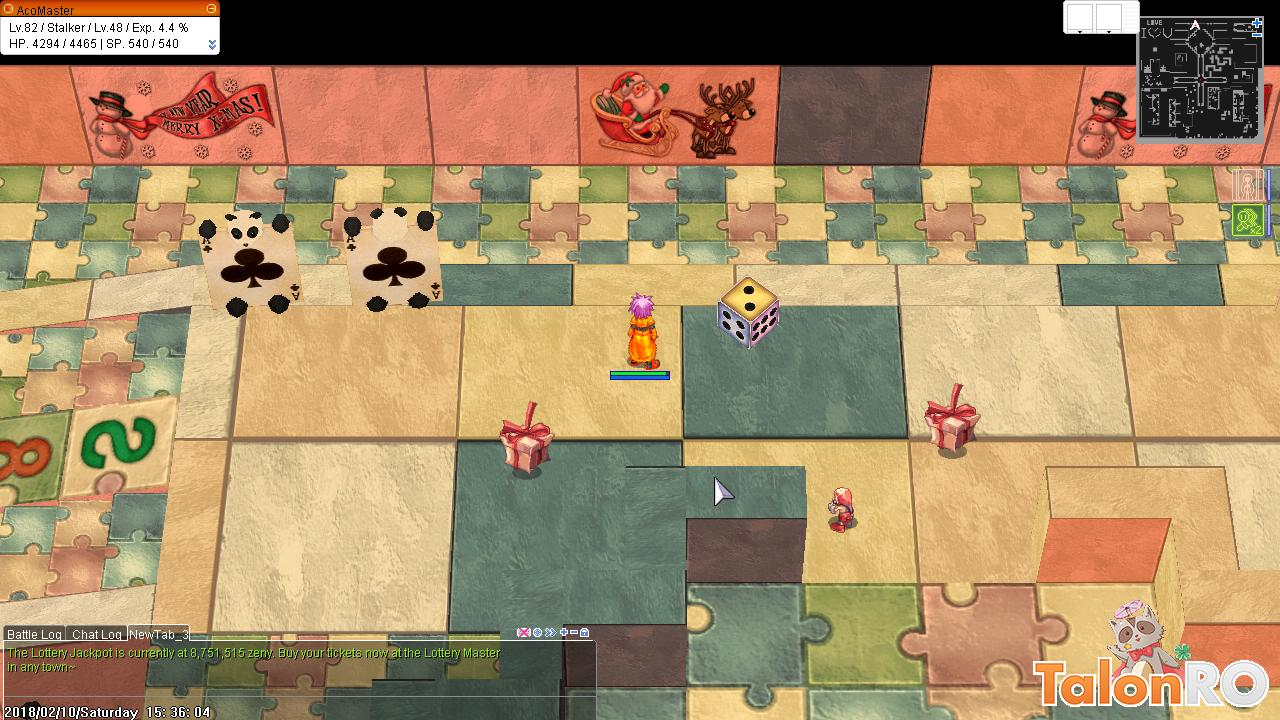myst_case: (498, 400, 559, 484), (924, 381, 986, 460)
